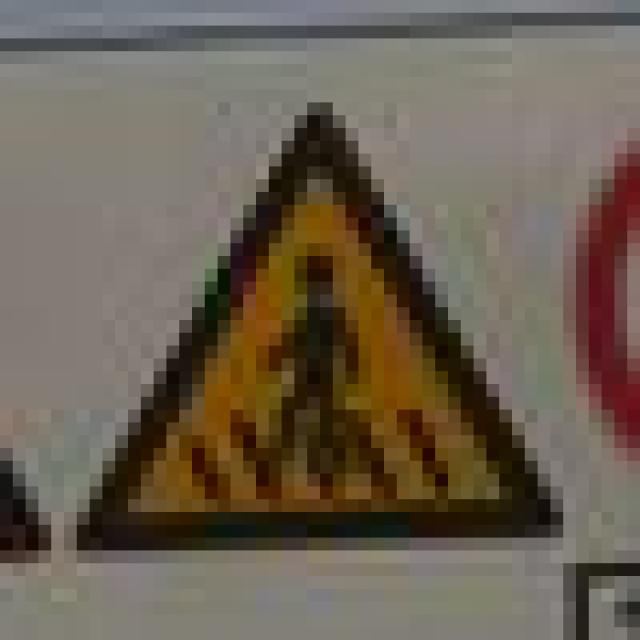pass_either_side: (51, 90, 563, 538)
